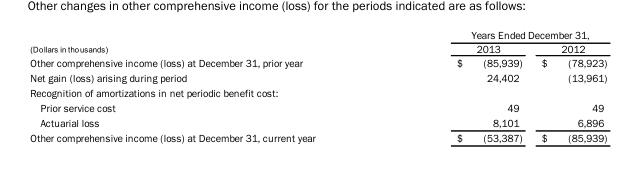table: (29, 28, 606, 143)
table column: (29, 28, 385, 143), (385, 28, 531, 143), (531, 28, 606, 143)
table column header: (29, 28, 606, 54)
table projected row header: (29, 84, 606, 99)
table row: (29, 54, 606, 69), (29, 69, 606, 84), (29, 84, 606, 99), (29, 99, 606, 114), (29, 114, 606, 129), (29, 129, 606, 143), (29, 28, 606, 41), (29, 41, 606, 54)
table spanning cell: (29, 28, 385, 54), (385, 28, 606, 41)
